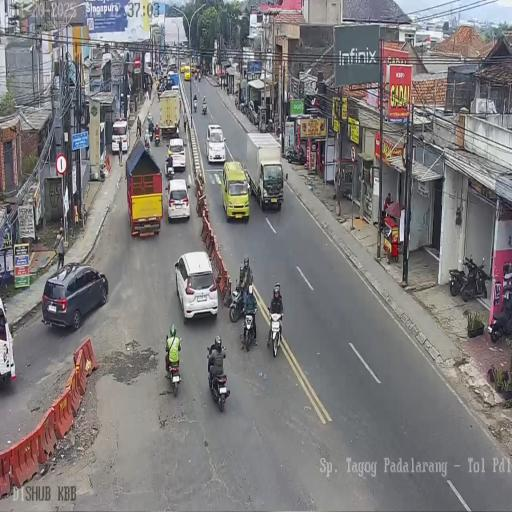3: (126, 140, 164, 237), (245, 132, 282, 214), (158, 89, 181, 140), (168, 72, 179, 89), (144, 52, 151, 74), (169, 56, 177, 70)
car: (41, 263, 109, 331), (174, 250, 219, 320), (221, 160, 249, 223), (166, 179, 190, 222), (165, 138, 186, 175), (206, 123, 225, 163), (111, 119, 129, 154), (184, 66, 190, 80), (190, 63, 196, 73)
truck: (207, 352, 230, 413), (460, 254, 489, 301), (164, 335, 182, 397), (488, 297, 511, 342), (228, 281, 248, 323), (240, 307, 258, 353), (267, 311, 284, 359), (284, 142, 306, 165), (148, 120, 154, 139), (144, 132, 150, 151), (240, 99, 247, 115), (154, 128, 160, 146), (254, 109, 260, 127), (202, 98, 208, 114), (275, 121, 281, 137), (234, 90, 239, 108), (193, 98, 197, 112), (204, 67, 208, 77), (194, 71, 198, 81), (198, 72, 201, 83)
